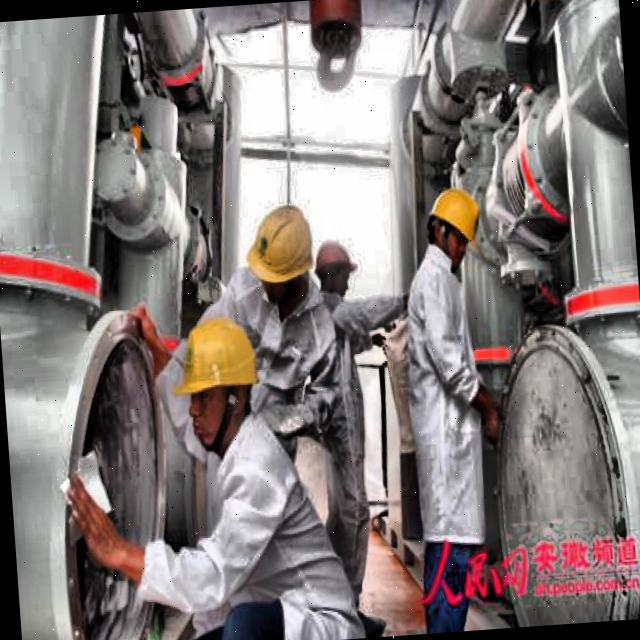helmet: (172, 314, 264, 456), (240, 190, 326, 317), (420, 179, 486, 271), (309, 232, 359, 302)
